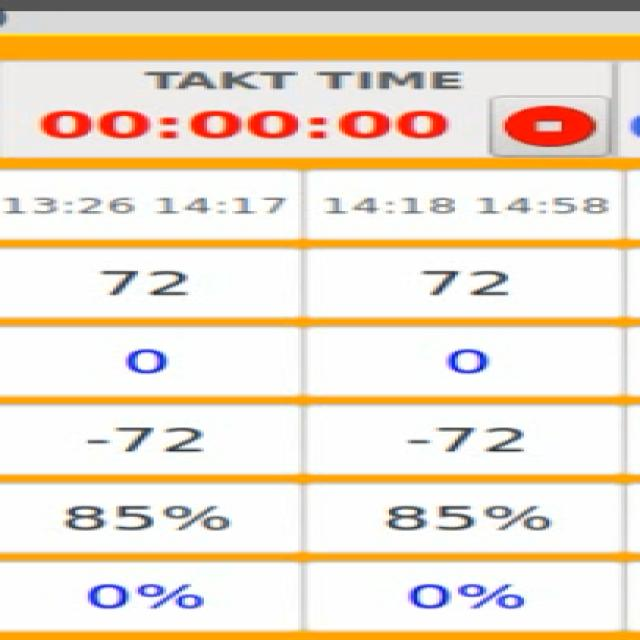takt_time: (30, 63, 470, 152)
